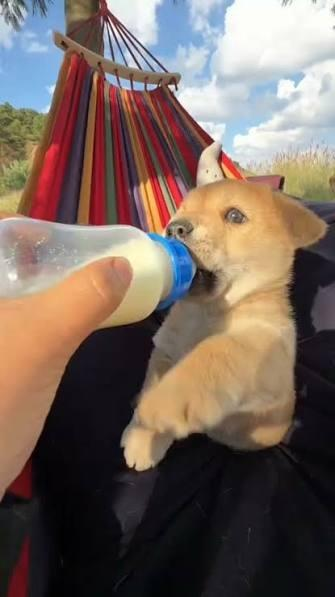puppy-dog: (120, 178, 328, 469)
